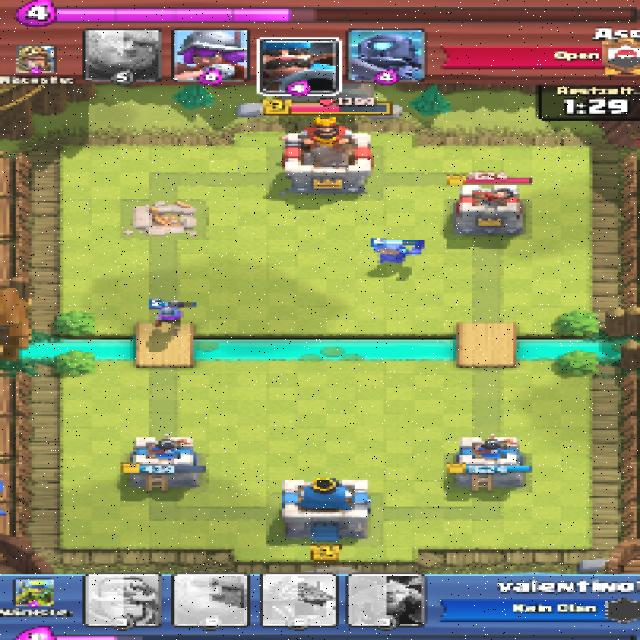Player-MiniPEKKA: (367, 240, 428, 263)
Player-Musketeer: (151, 299, 186, 329)
